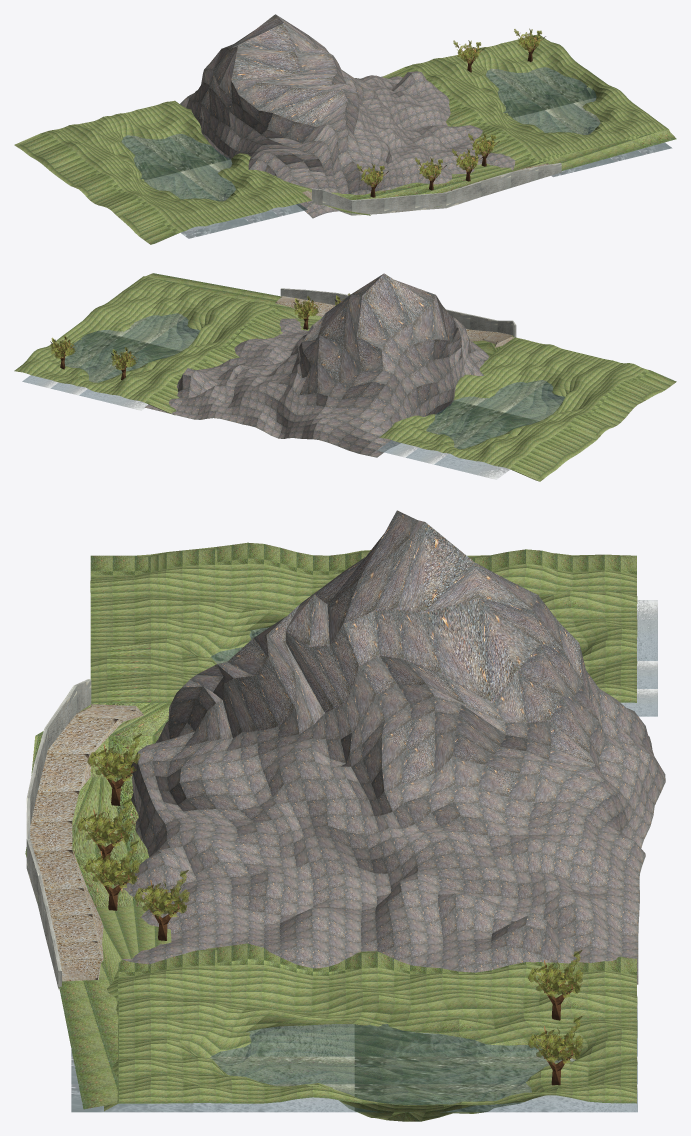
Rendered from montains.obj.
3 renders of one model, top to bottom at view 1: azimuth 30°, elevation 25°; view 2: azimuth 150°, elevation 25°; view 3: azimuth 270°, elevation 25°, orthographic. The views are drawn at different scales.
Visible parts, largest first — view 1: Montanha, parteTerra.001, parteTerra, agua.001, agua, muro1, Arvore, Arvore.005, Arvore.006, Arvore.007, Arvore.001, Arvore.004; view 2: Montanha, parteTerra.001, parteTerra, agua.001, agua, muro1, Plane, Arvore, Arvore.004, Arvore.001; view 3: Montanha, parteTerra, parteTerra.001, agua, Plane, muro1, agua.001, Arvore.004, Arvore.005, Arvore.001, Arvore, Arvore.007 (+1 smaller).
Boxes of the visible parts, x1,y1,x2,y2 form: Montanha: (180, 14, 515, 218); parteTerra.001: (14, 100, 676, 244); parteTerra: (382, 35, 669, 169); agua.001: (121, 134, 307, 238); agua: (486, 67, 671, 176); muro1: (312, 163, 561, 215); Arvore: (514, 28, 545, 61); Arvore.005: (451, 148, 483, 181); Arvore.006: (415, 157, 446, 190); Arvore.007: (357, 163, 388, 197); Arvore.001: (453, 40, 484, 72); Arvore.004: (468, 133, 499, 166); Montanha: (144, 273, 489, 457); parteTerra.001: (145, 273, 676, 481); parteTerra: (14, 276, 297, 415); agua.001: (377, 380, 564, 479); agua: (22, 313, 199, 410); muro1: (280, 288, 516, 337); Plane: (275, 296, 514, 347); Arvore: (50, 335, 76, 369); Arvore.004: (293, 296, 320, 329); Arvore.001: (111, 347, 138, 379); Montanha: (122, 510, 665, 984); parteTerra: (104, 943, 637, 1121); parteTerra.001: (25, 542, 637, 1109); agua: (71, 995, 637, 1112); Plane: (30, 704, 143, 981); muro1: (26, 679, 91, 989); agua.001: (210, 600, 657, 716); Arvore.004: (134, 870, 189, 940); Arvore.005: (84, 840, 139, 910); Arvore.001: (527, 950, 583, 1020); Arvore: (527, 1016, 583, 1085); Arvore.007: (87, 734, 141, 805).
Size of the model in its own units: 831 by 238 by 437.
